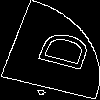D: (25, 24, 93, 73)
